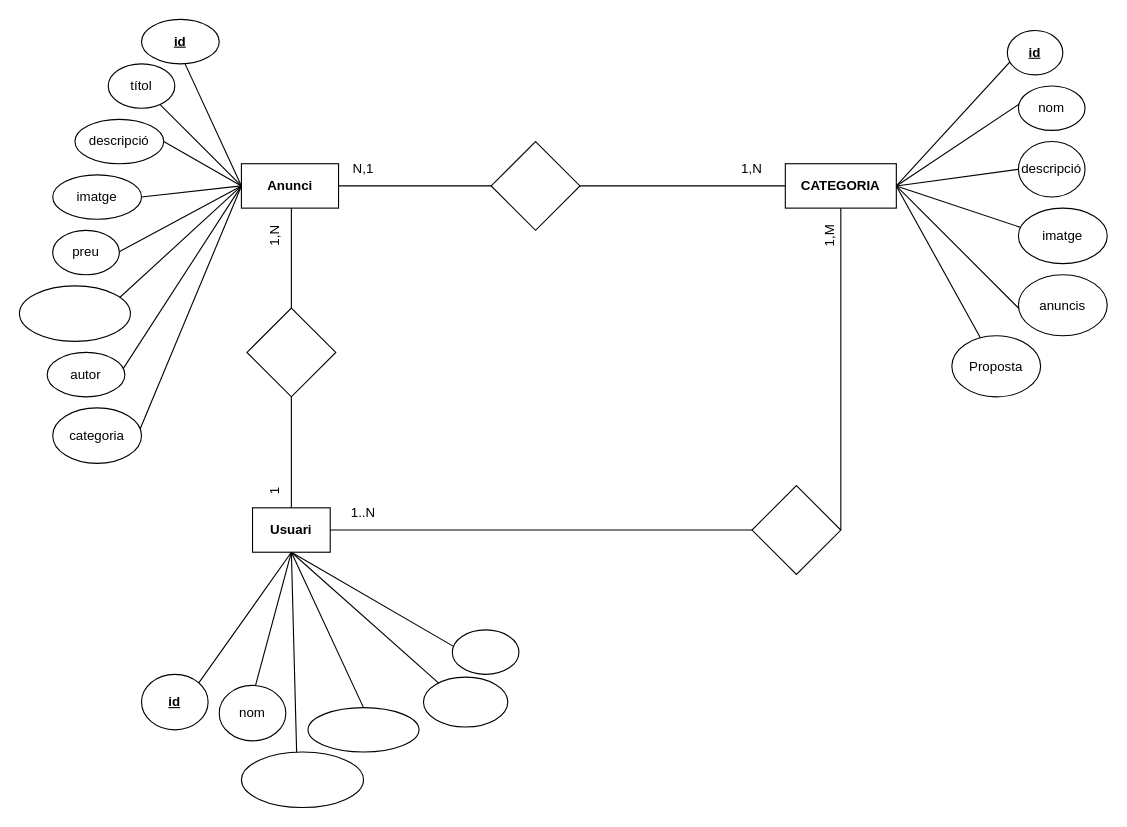
The diagram is 1127 pixels wide and 827 high, and some of its shapes have lost their labels. Each missing label, with the box of its shape:
contrasenya: (307, 707, 419, 752)
correuElectronic: (240, 751, 364, 808)
CREA: (246, 307, 336, 397)
dataCreació: (18, 285, 130, 341)
estat: (422, 676, 508, 727)
PERTANY: (490, 140, 580, 230)
PROPOSA: (751, 485, 841, 574)
rol: (451, 629, 519, 674)
